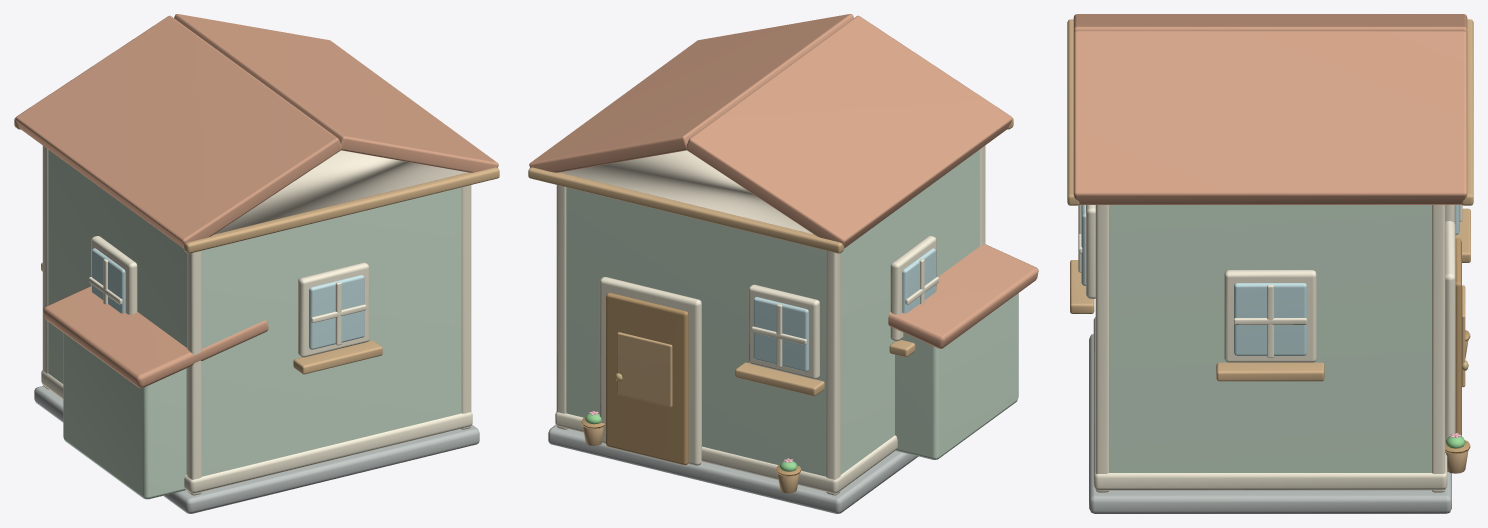
File: cottage_6.glb
3 views of the same model, side by side, from view 1: azimuth 30°, elevation 25°; view 2: azimuth 150°, elevation 25°; view 3: azimuth 270°, elevation 25° (orthographic). The views are drawn at different scales.
Bounding box in the file's own units: 3.68 × 3.47 × 3.16.
